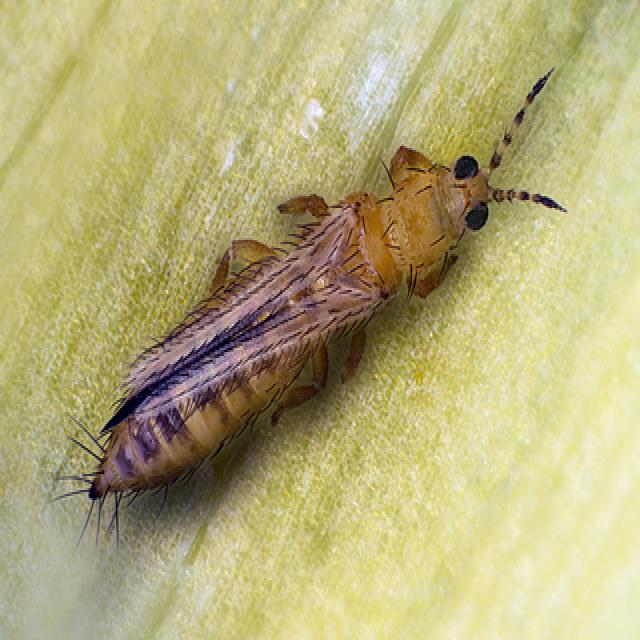Thrip-Adult-: (59, 56, 575, 545)
